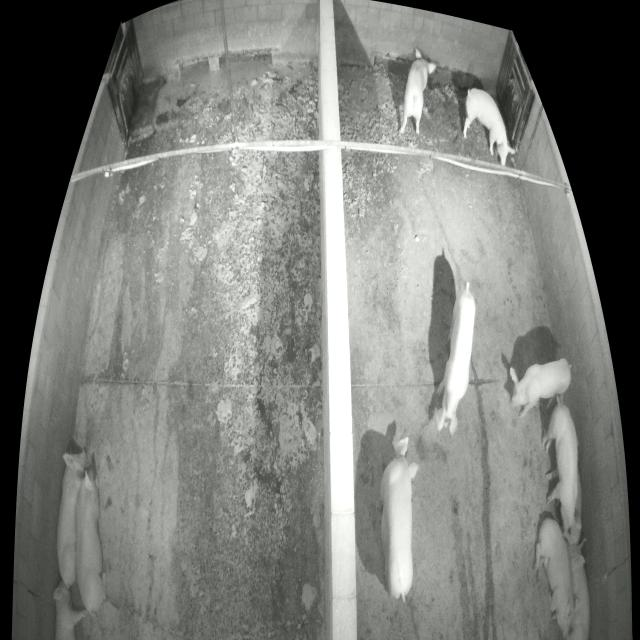pig: (374, 436, 421, 604), (530, 519, 582, 637), (435, 291, 475, 436), (542, 404, 581, 534), (75, 466, 107, 614), (56, 449, 88, 588), (463, 89, 518, 167), (510, 358, 572, 418), (399, 47, 436, 136), (568, 535, 590, 639), (53, 580, 88, 638)
